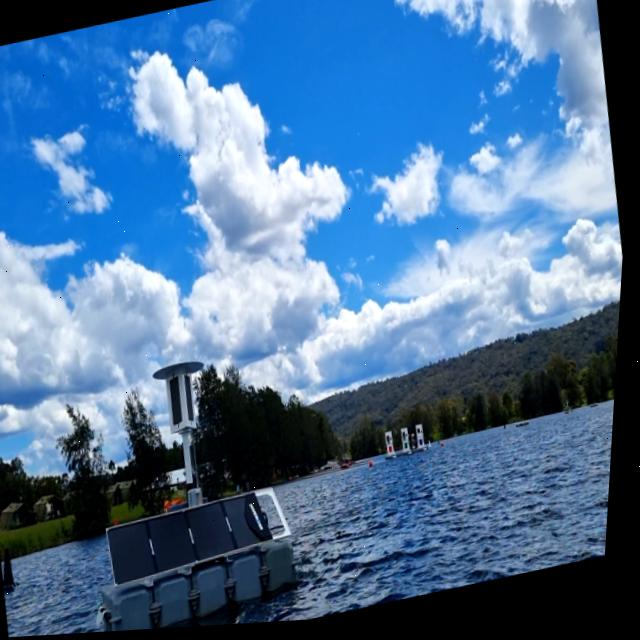led: (169, 377, 192, 432), (184, 372, 203, 428)
